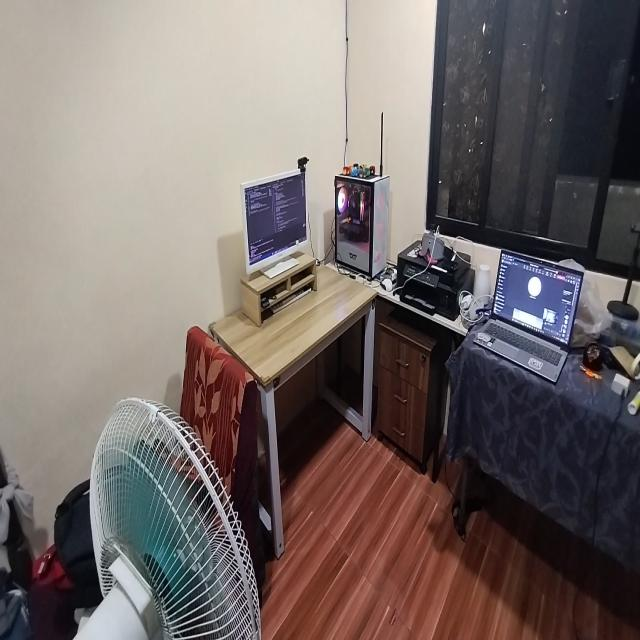table: (207, 251, 380, 561)
